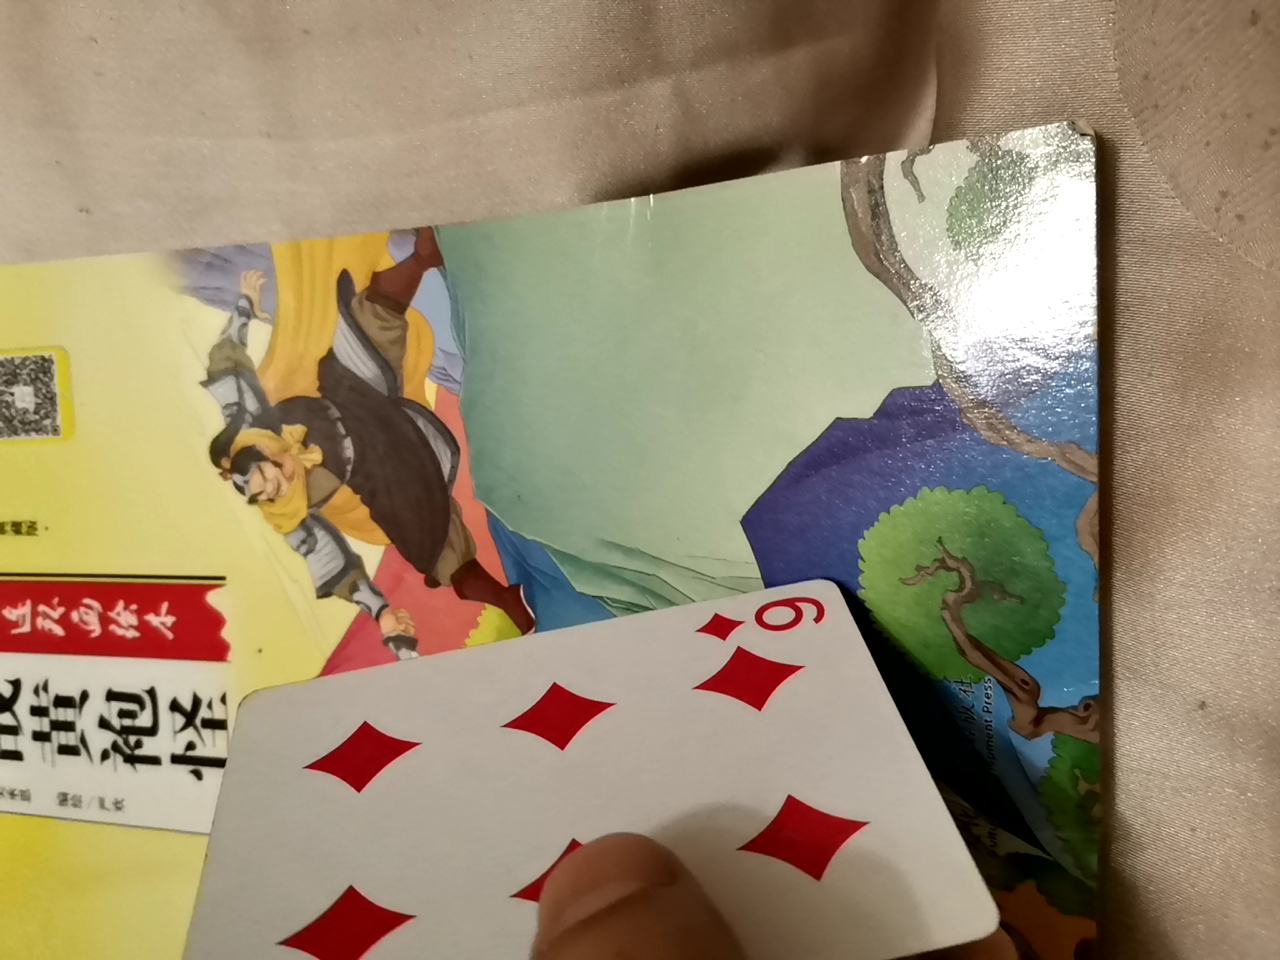fk 6: (148, 551, 981, 952)
